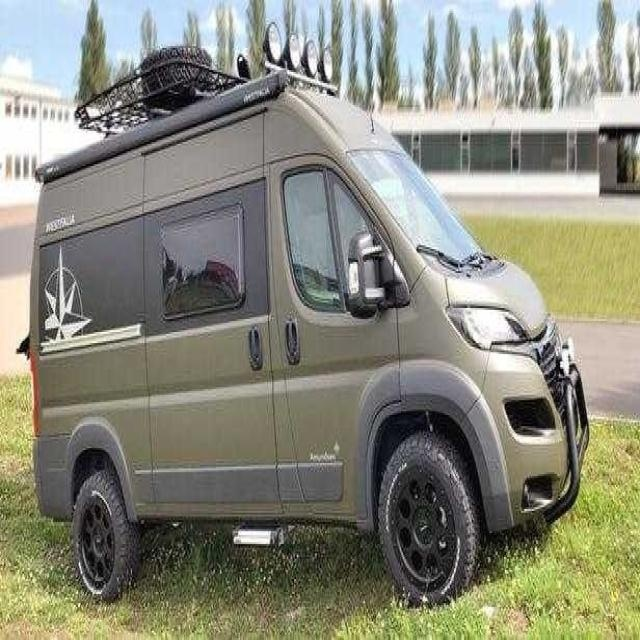Van: (26, 21, 592, 610)
